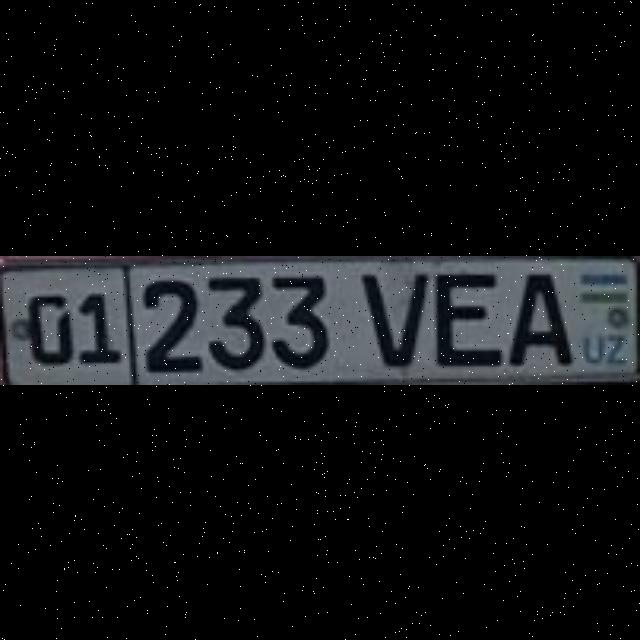0: (22, 286, 66, 359)
1: (73, 286, 114, 359)
2: (136, 274, 200, 366)
3: (266, 268, 324, 362), (202, 271, 260, 363)
A: (504, 268, 566, 362)
E: (430, 265, 498, 363)
V: (358, 268, 424, 362)
